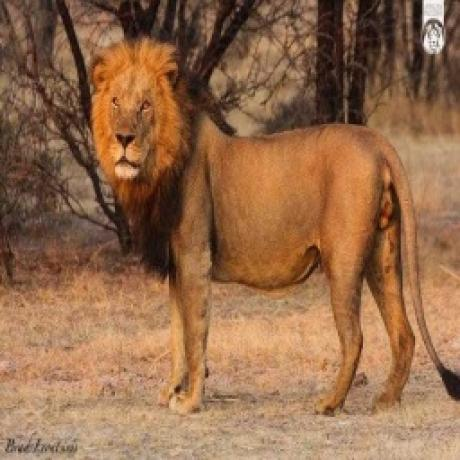Lion: (86, 35, 460, 420)
